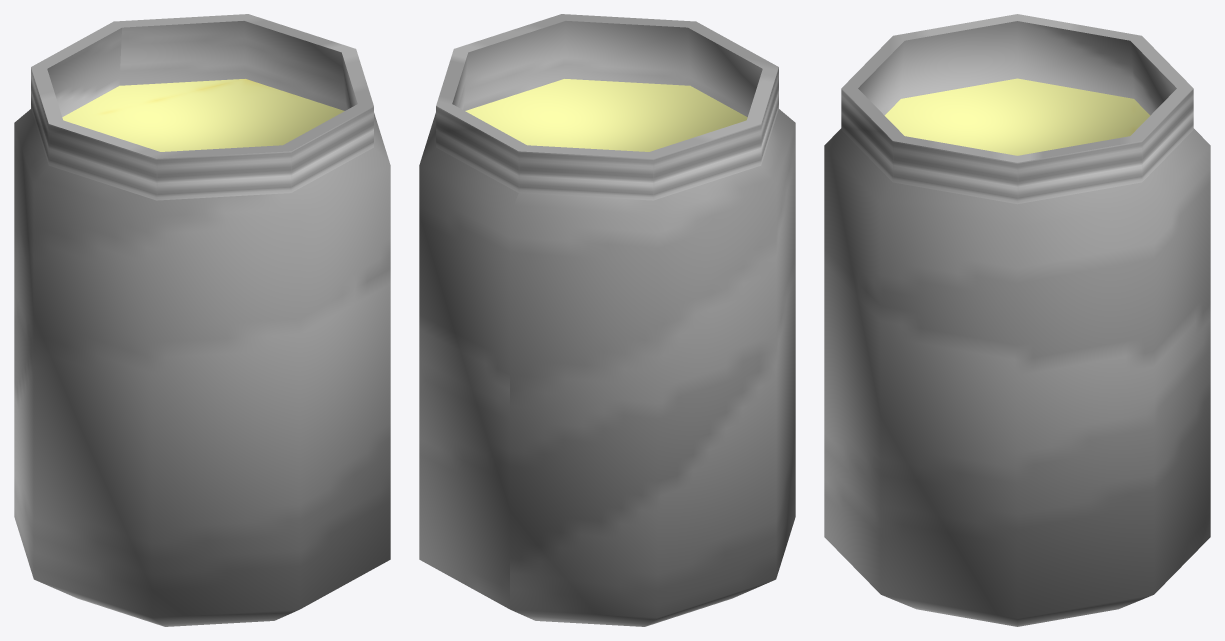
Rendered from vinegarjar.fbx.
3 views of the same model, side by side, from view 1: azimuth 30°, elevation 25°; view 2: azimuth 150°, elevation 25°; view 3: azimuth 270°, elevation 25° (orthographic).
Visible parts, largest first — view 1: EmptyJar; view 2: EmptyJar; view 3: EmptyJar.
Boxes of the visible parts, bbox=[...] form: EmptyJar: bbox=[14, 14, 390, 626]; EmptyJar: bbox=[419, 14, 795, 626]; EmptyJar: bbox=[824, 14, 1210, 626].
Size of the model in its own units: 0.0877 by 0.1197 by 0.0877.
